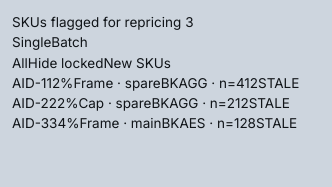
Test: SkuPicker — Phase 6 Batch mode › reveals checkboxes when Batch is selected
This screenshot has width=332, height=187.
Click the tab with test id "sku-picker-mode-batch" at (70,42), box [51,32,88,53]
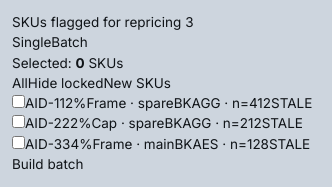
expect the label with test id "sku-picker-checkbox-AID-1" is shown: met, box [12,95,25,111]
expect the label with test id "sku-picker-checkbox-AID-2" is shown: met, box [12,115,25,131]
expect the label with test id "sku-picker-checkbox-AID-3" is shown: met, box [12,136,25,152]
